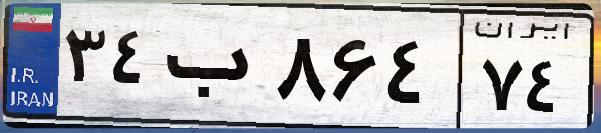3: (57, 26, 110, 100)
4: (385, 28, 445, 110), (525, 38, 570, 115), (110, 28, 158, 98)
6: (330, 28, 385, 110)
7: (475, 38, 525, 113)
8: (270, 28, 330, 110)
ب: (158, 20, 270, 120)
